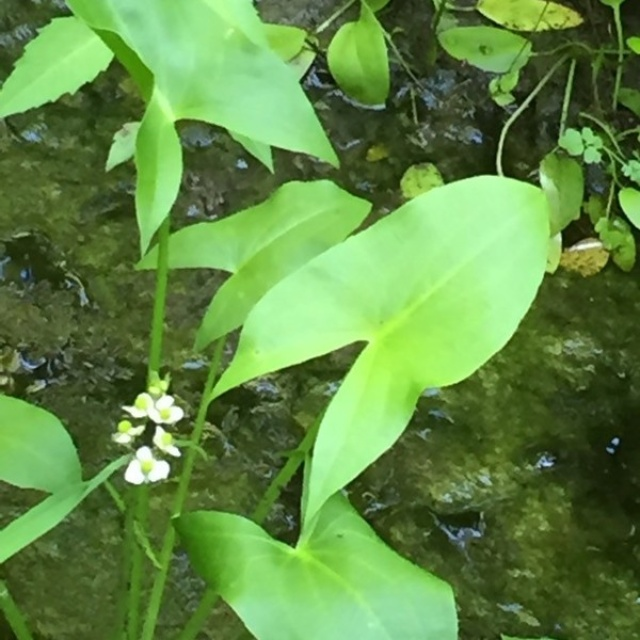obstacle: (77, 20, 535, 603)
